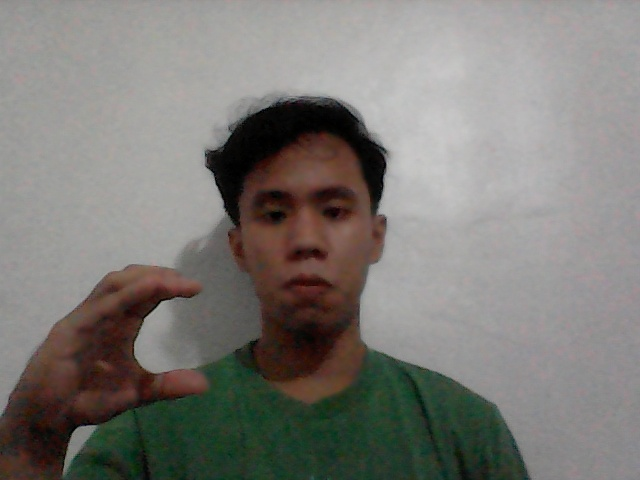C: (1, 236, 235, 449)
